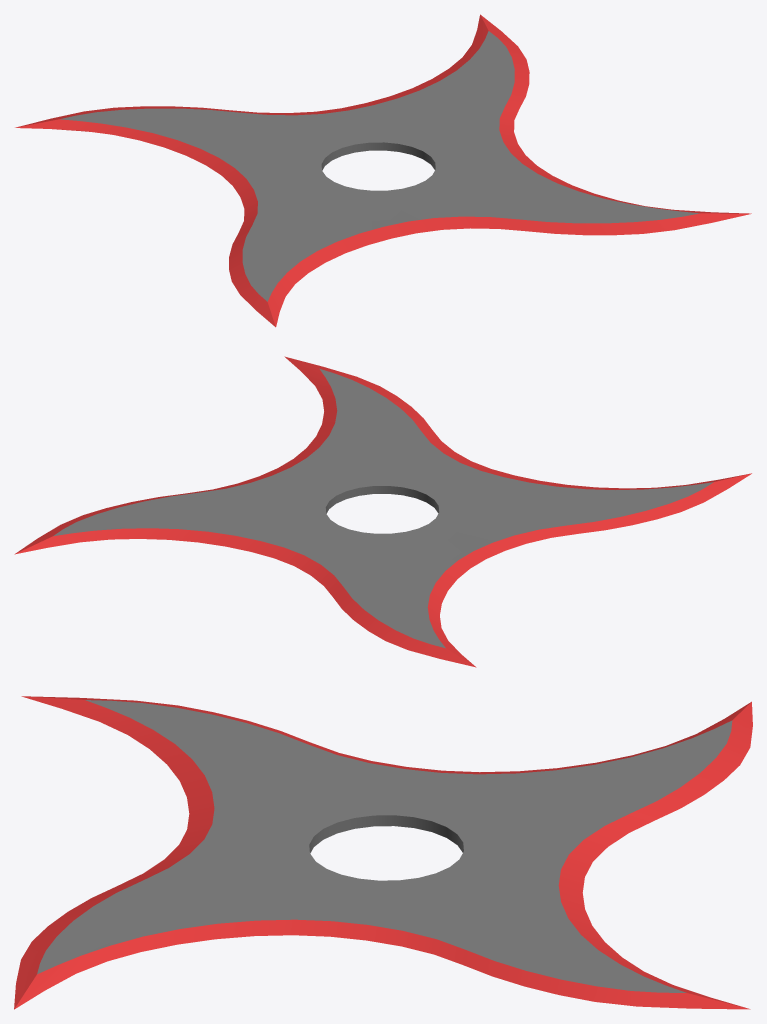
The model's file is shuriken_4.fbx.
3 renders of one model, top to bottom at view 1: azimuth 30°, elevation 25°; view 2: azimuth 150°, elevation 25°; view 3: azimuth 270°, elevation 25°, orthographic. The views are drawn at different scales.
Visible parts, largest first — view 1: BLADE 4; view 2: BLADE 4; view 3: BLADE 4.
Part boxes in pixels (x1,y1,x2,y2): BLADE 4: (15, 14, 751, 327); BLADE 4: (14, 356, 751, 667); BLADE 4: (14, 696, 752, 1009).
Bounding box in the file's own units: 1.36 × 0.0255 × 1.35.
